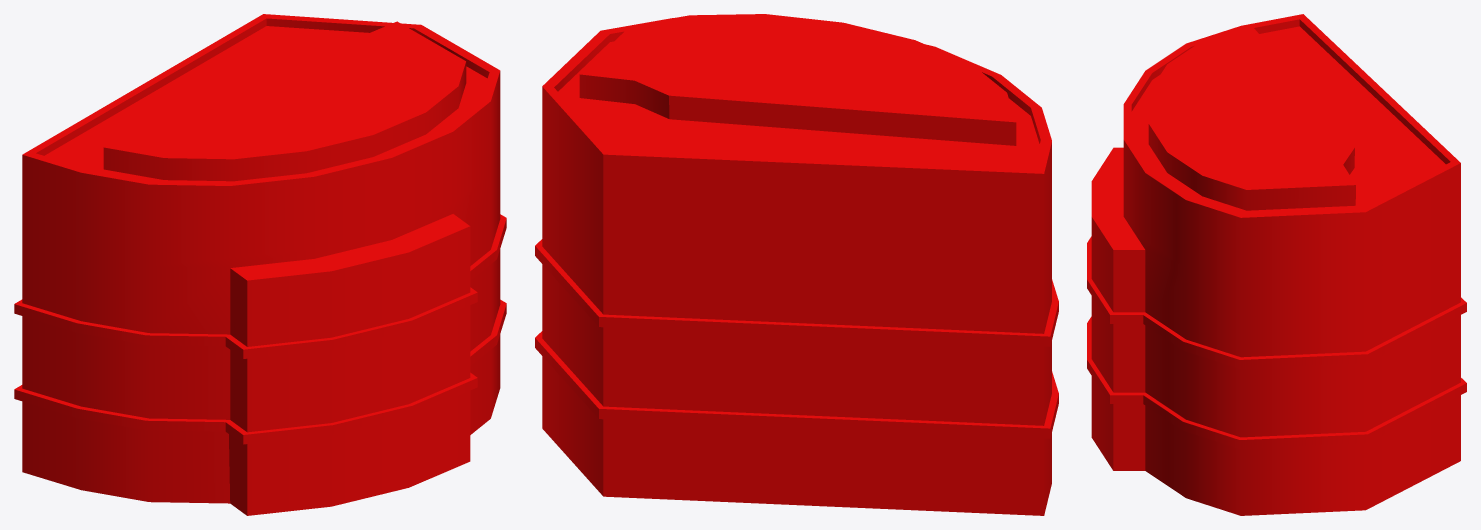
The model's file is tour11.FBX.
The picture shows the model from 3 angles, left to right: view 1: azimuth 30°, elevation 25°; view 2: azimuth 150°, elevation 25°; view 3: azimuth 270°, elevation 25°; orthographic projection. The views are drawn at different scales.
Visible parts, largest first — view 1: Tour11; view 2: Tour11; view 3: Tour11.
Part boxes in pixels (<box>): Tour11: <box>14,14,506,515</box>; Tour11: <box>535,14,1058,515</box>; Tour11: <box>1087,14,1466,515</box>.
Size of the model in its own units: 980 by 679 by 750.
